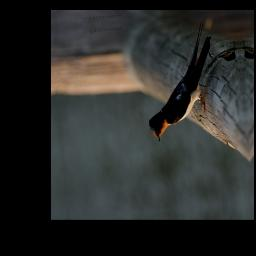Swallow: (137, 19, 222, 146)
